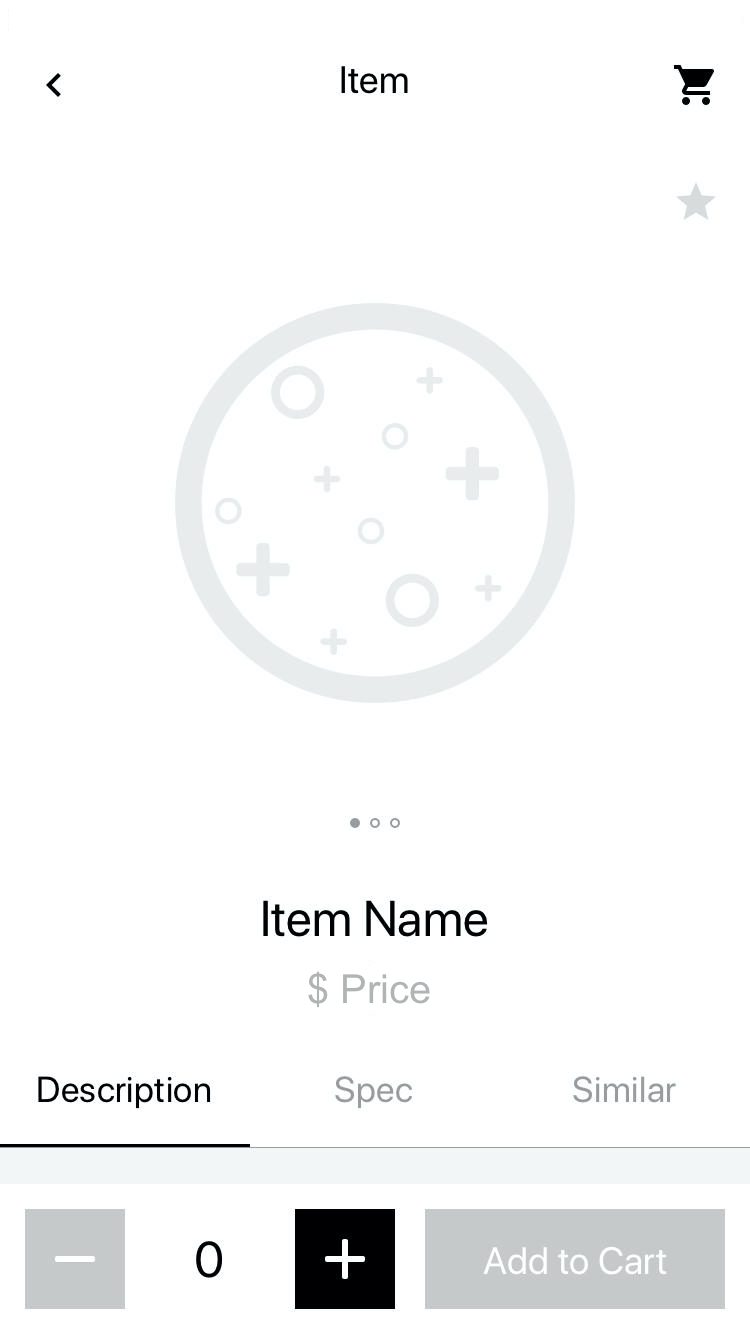Icon: (295, 1209, 396, 1309), (26, 1209, 126, 1309), (673, 65, 715, 107), (676, 183, 717, 221), (46, 73, 63, 99)
Image: (175, 304, 576, 704)
PageIndicator: (350, 817, 402, 830)
Text: (263, 900, 488, 937), (39, 1076, 211, 1109), (308, 971, 431, 1009), (573, 1076, 676, 1102), (335, 1076, 413, 1109), (340, 66, 409, 95), (196, 1241, 223, 1277)
TextButton: (425, 1209, 725, 1309)
